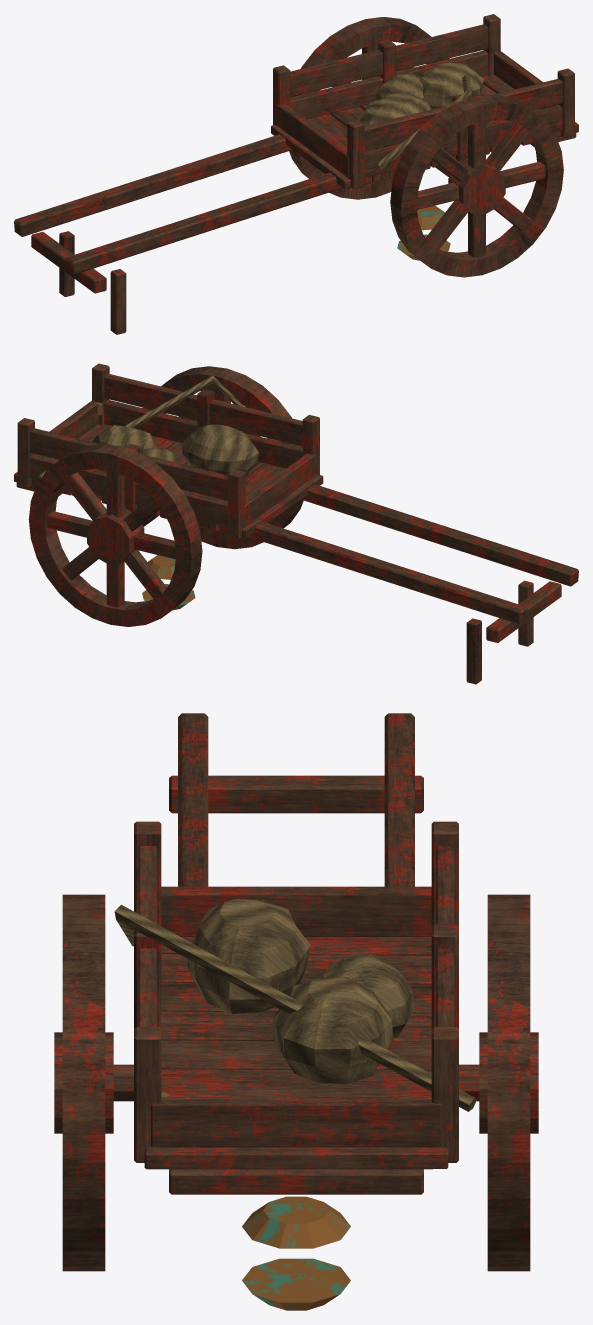
File: Cart_A.glb
3 views of the same model, one above another, from view 1: azimuth 30°, elevation 25°; view 2: azimuth 150°, elevation 25°; view 3: azimuth 270°, elevation 25° (orthographic). The views are drawn at different scales.
Parts seen in each view (by area): view 1: Cart_A__Timber, Cart_A__Cloth, Cart_A__Bronze; view 2: Cart_A__Timber, Cart_A__Cloth, Cart_A__Bronze; view 3: Cart_A__Timber, Cart_A__Cloth, Cart_A__Bronze.
Boxes of the visible parts, <box> form: Cart_A__Timber: <box>14,14,578,334</box>; Cart_A__Cloth: <box>359,63,483,168</box>; Cart_A__Bronze: <box>397,104,557,260</box>; Cart_A__Timber: <box>14,363,578,684</box>; Cart_A__Cloth: <box>38,375,280,479</box>; Cart_A__Bronze: <box>96,402,195,610</box>; Cart_A__Timber: <box>54,713,538,1271</box>; Cart_A__Cloth: <box>114,898,476,1111</box>; Cart_A__Bronze: <box>161,1092,350,1310</box>.
Bounding box in the file's own units: 19.1 × 7.13 × 7.98.
Materials: 3 (3 with a texture image).
